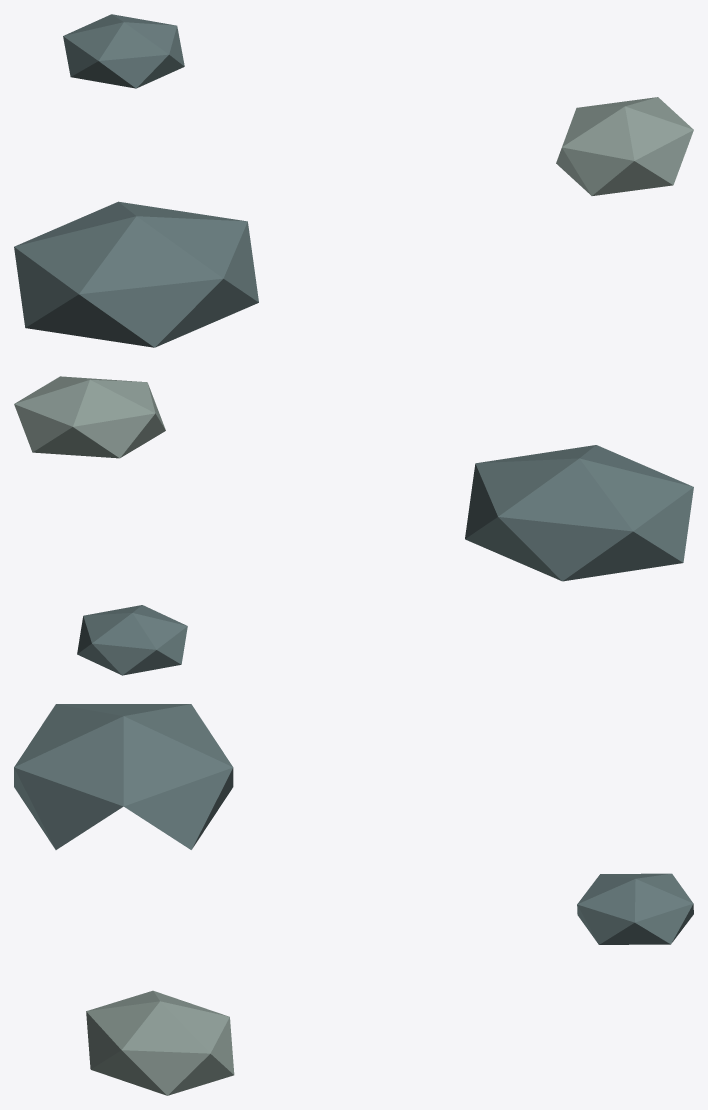
Rendered from bit_pebbles.glb.
The picture shows the model from 3 angles, top to bottom: view 1: azimuth 30°, elevation 25°; view 2: azimuth 150°, elevation 25°; view 3: azimuth 270°, elevation 25°; orthographic projection. The views are drawn at different scales.
Parts seen in each view (by area): view 1: Rock_Mesh, RockLight_Mesh; view 2: Rock_Mesh, RockLight_Mesh; view 3: Rock_Mesh, RockLight_Mesh.
Boxes of the visible parts, x1,y1,x2,y2 form: Rock_Mesh: [14, 14, 258, 347]; RockLight_Mesh: [556, 97, 693, 195]; Rock_Mesh: [77, 445, 693, 675]; RockLight_Mesh: [14, 376, 165, 458]; Rock_Mesh: [14, 704, 693, 944]; RockLight_Mesh: [86, 990, 234, 1095].
Size of the model in its own units: 0.6758 by 0.08 by 0.558.
